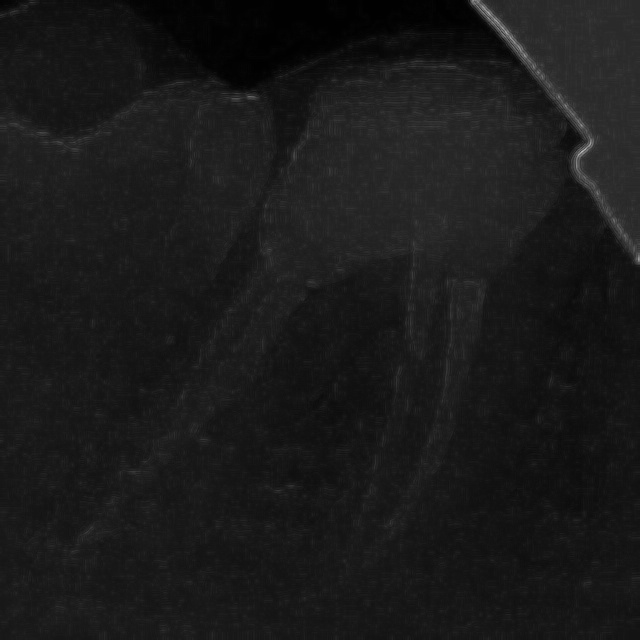Class 0- No endodontic treatment: (42, 26, 576, 608)
